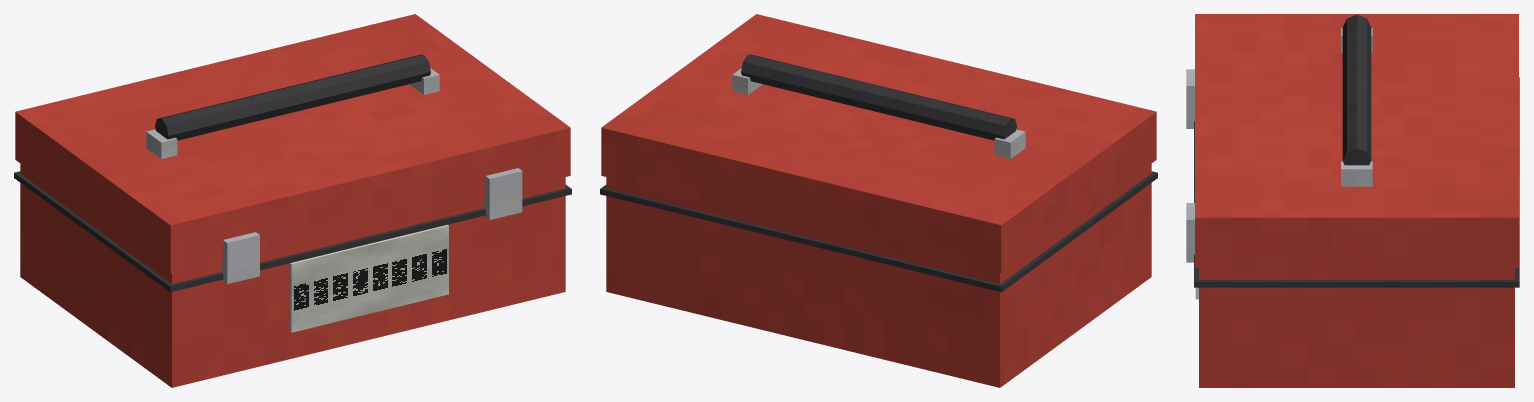
Rendered from item_supply_box.glb.
The picture shows the model from 3 angles, left to right: view 1: azimuth 30°, elevation 25°; view 2: azimuth 150°, elevation 25°; view 3: azimuth 270°, elevation 25°; orthographic projection. The views are drawn at different scales.
Parts seen in each view (by area): view 1: box; view 2: box; view 3: box.
Part boxes in pixels (x1,y1,x2,y2): box: (14,14,571,387); box: (600,14,1157,387); box: (1186,14,1519,387).
Size of the model in its own units: 0.306 by 0.144 by 0.211.
Materials: 5 (5 with a texture image).
